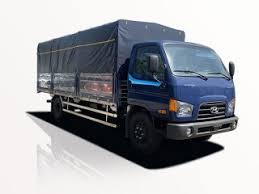hyundai: (206, 103, 223, 117)
